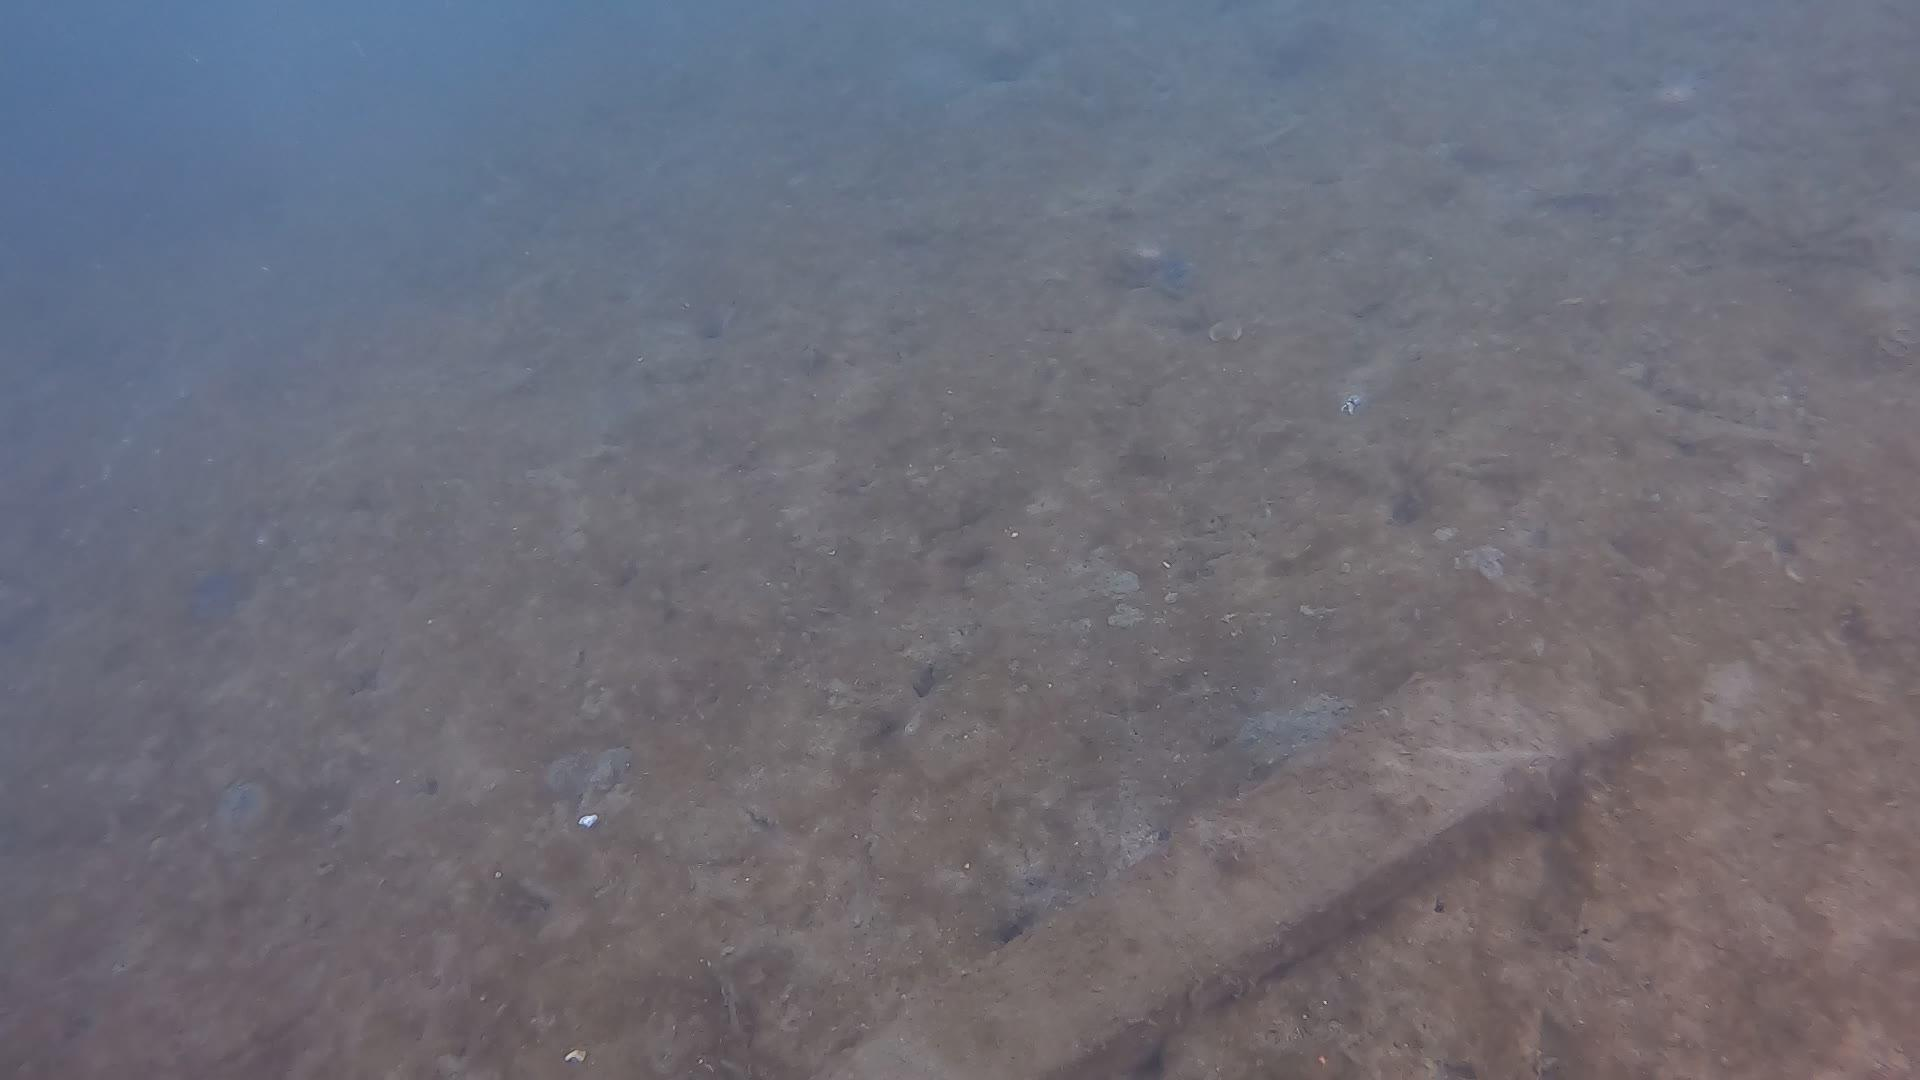wood: (798, 641, 1627, 1080)
